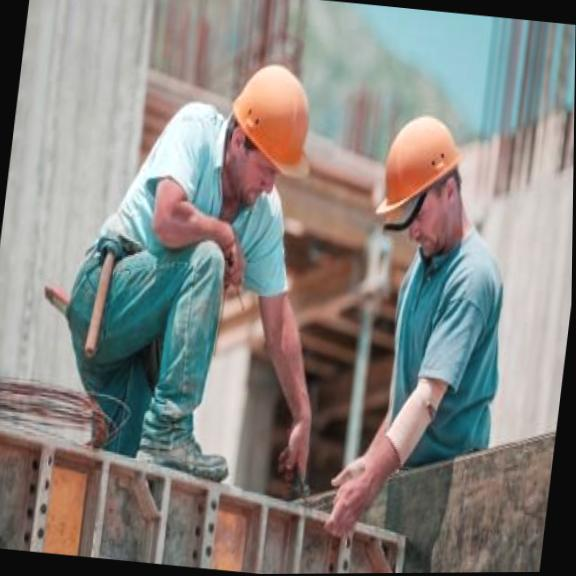no_safety_vest: (377, 236, 508, 458), (108, 139, 291, 288)
